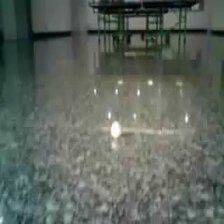w: (109, 120, 124, 139)
